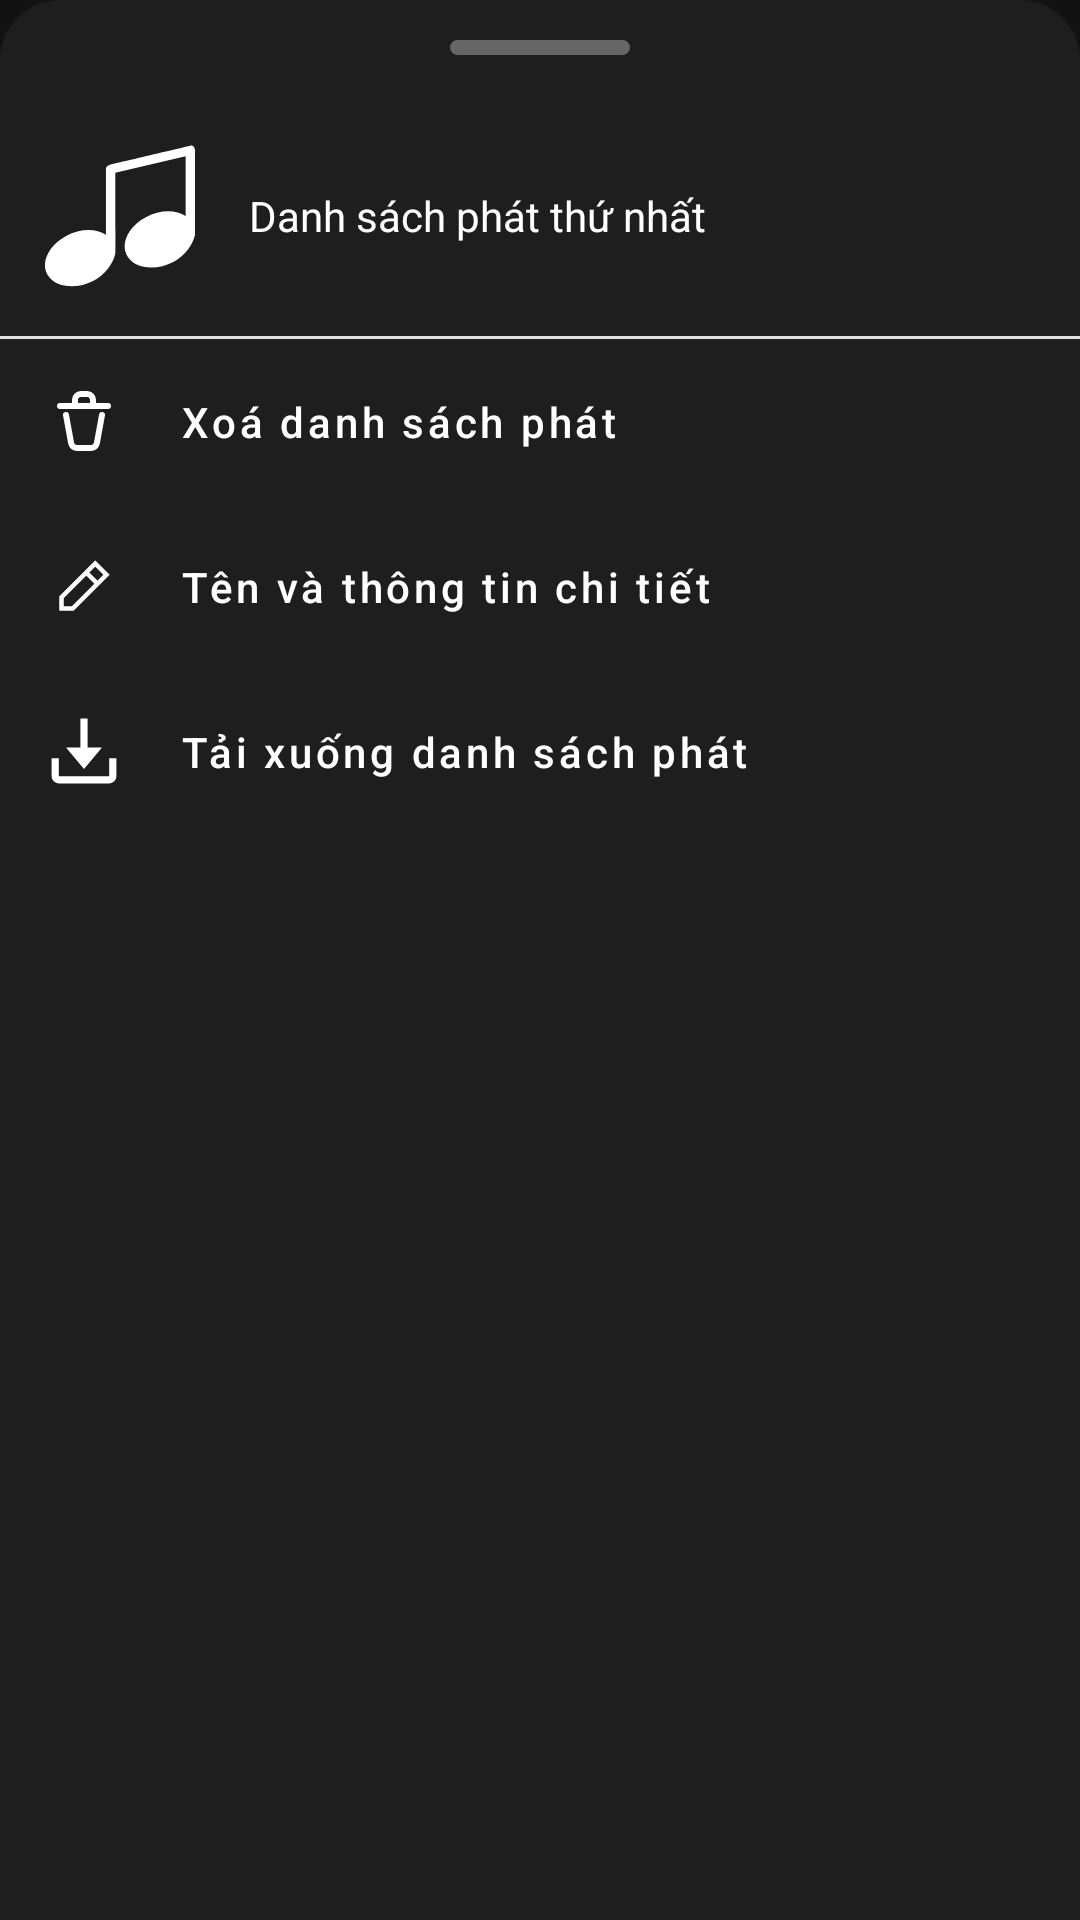

Screen size 1080 x 1920. Icon name, then its box in pixels as box(x1, y1, x2, y2):
music note: box(45, 145, 195, 287)
